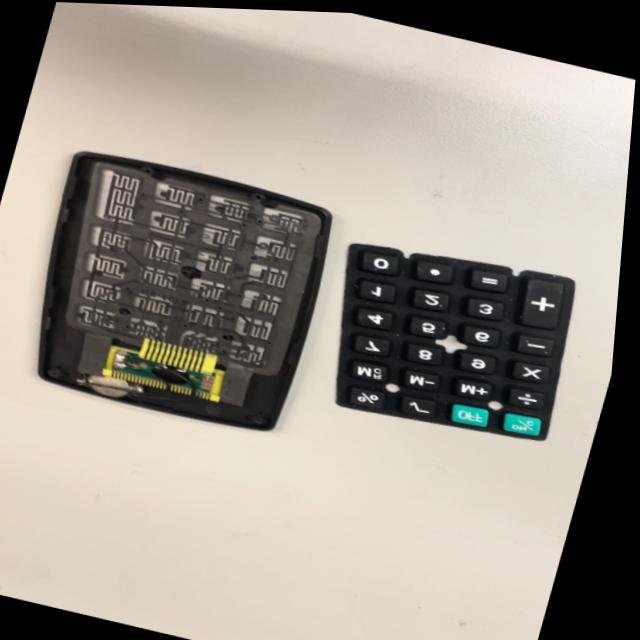front_panel: (0, 135, 351, 446)
number_pad: (300, 220, 595, 468)
